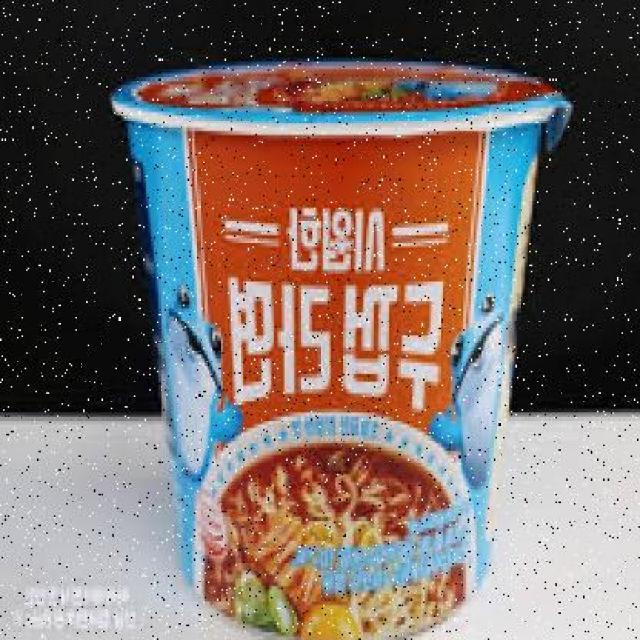Miscellaneous: (120, 57, 571, 640)
